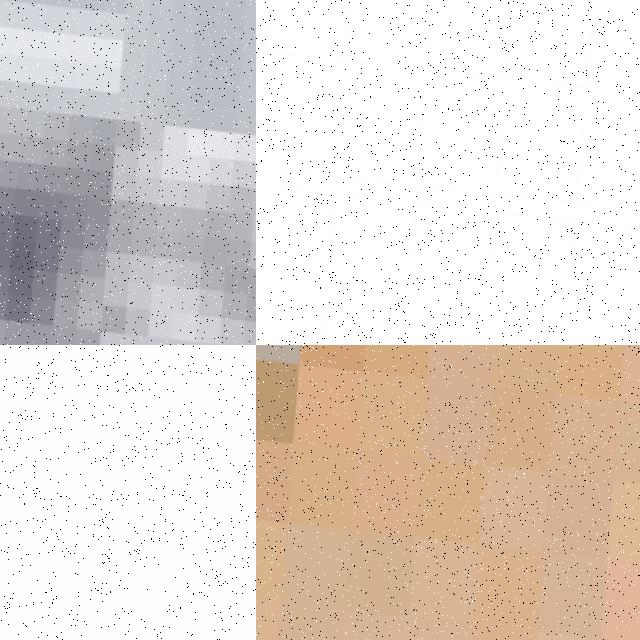0: (0, 0, 256, 345)
drone: (256, 0, 640, 345), (256, 345, 640, 640), (0, 345, 256, 640)
